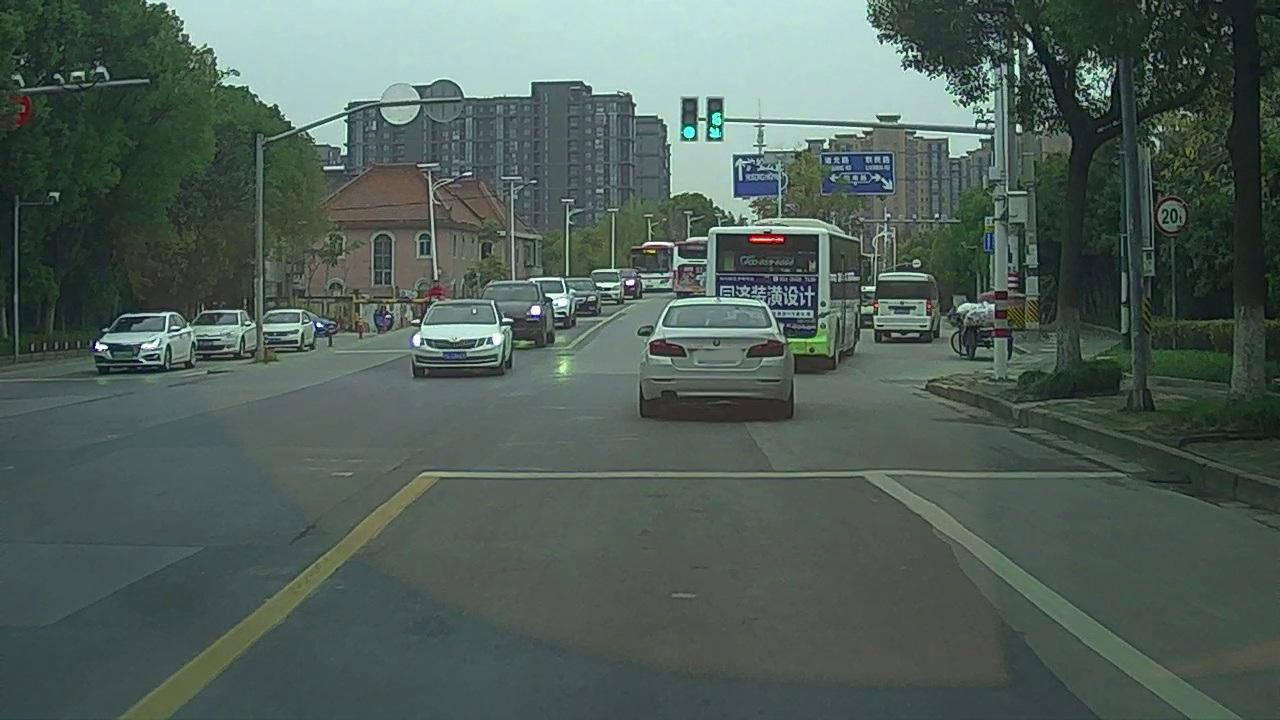traffic_light: (709, 98, 723, 141), (684, 98, 698, 139)
